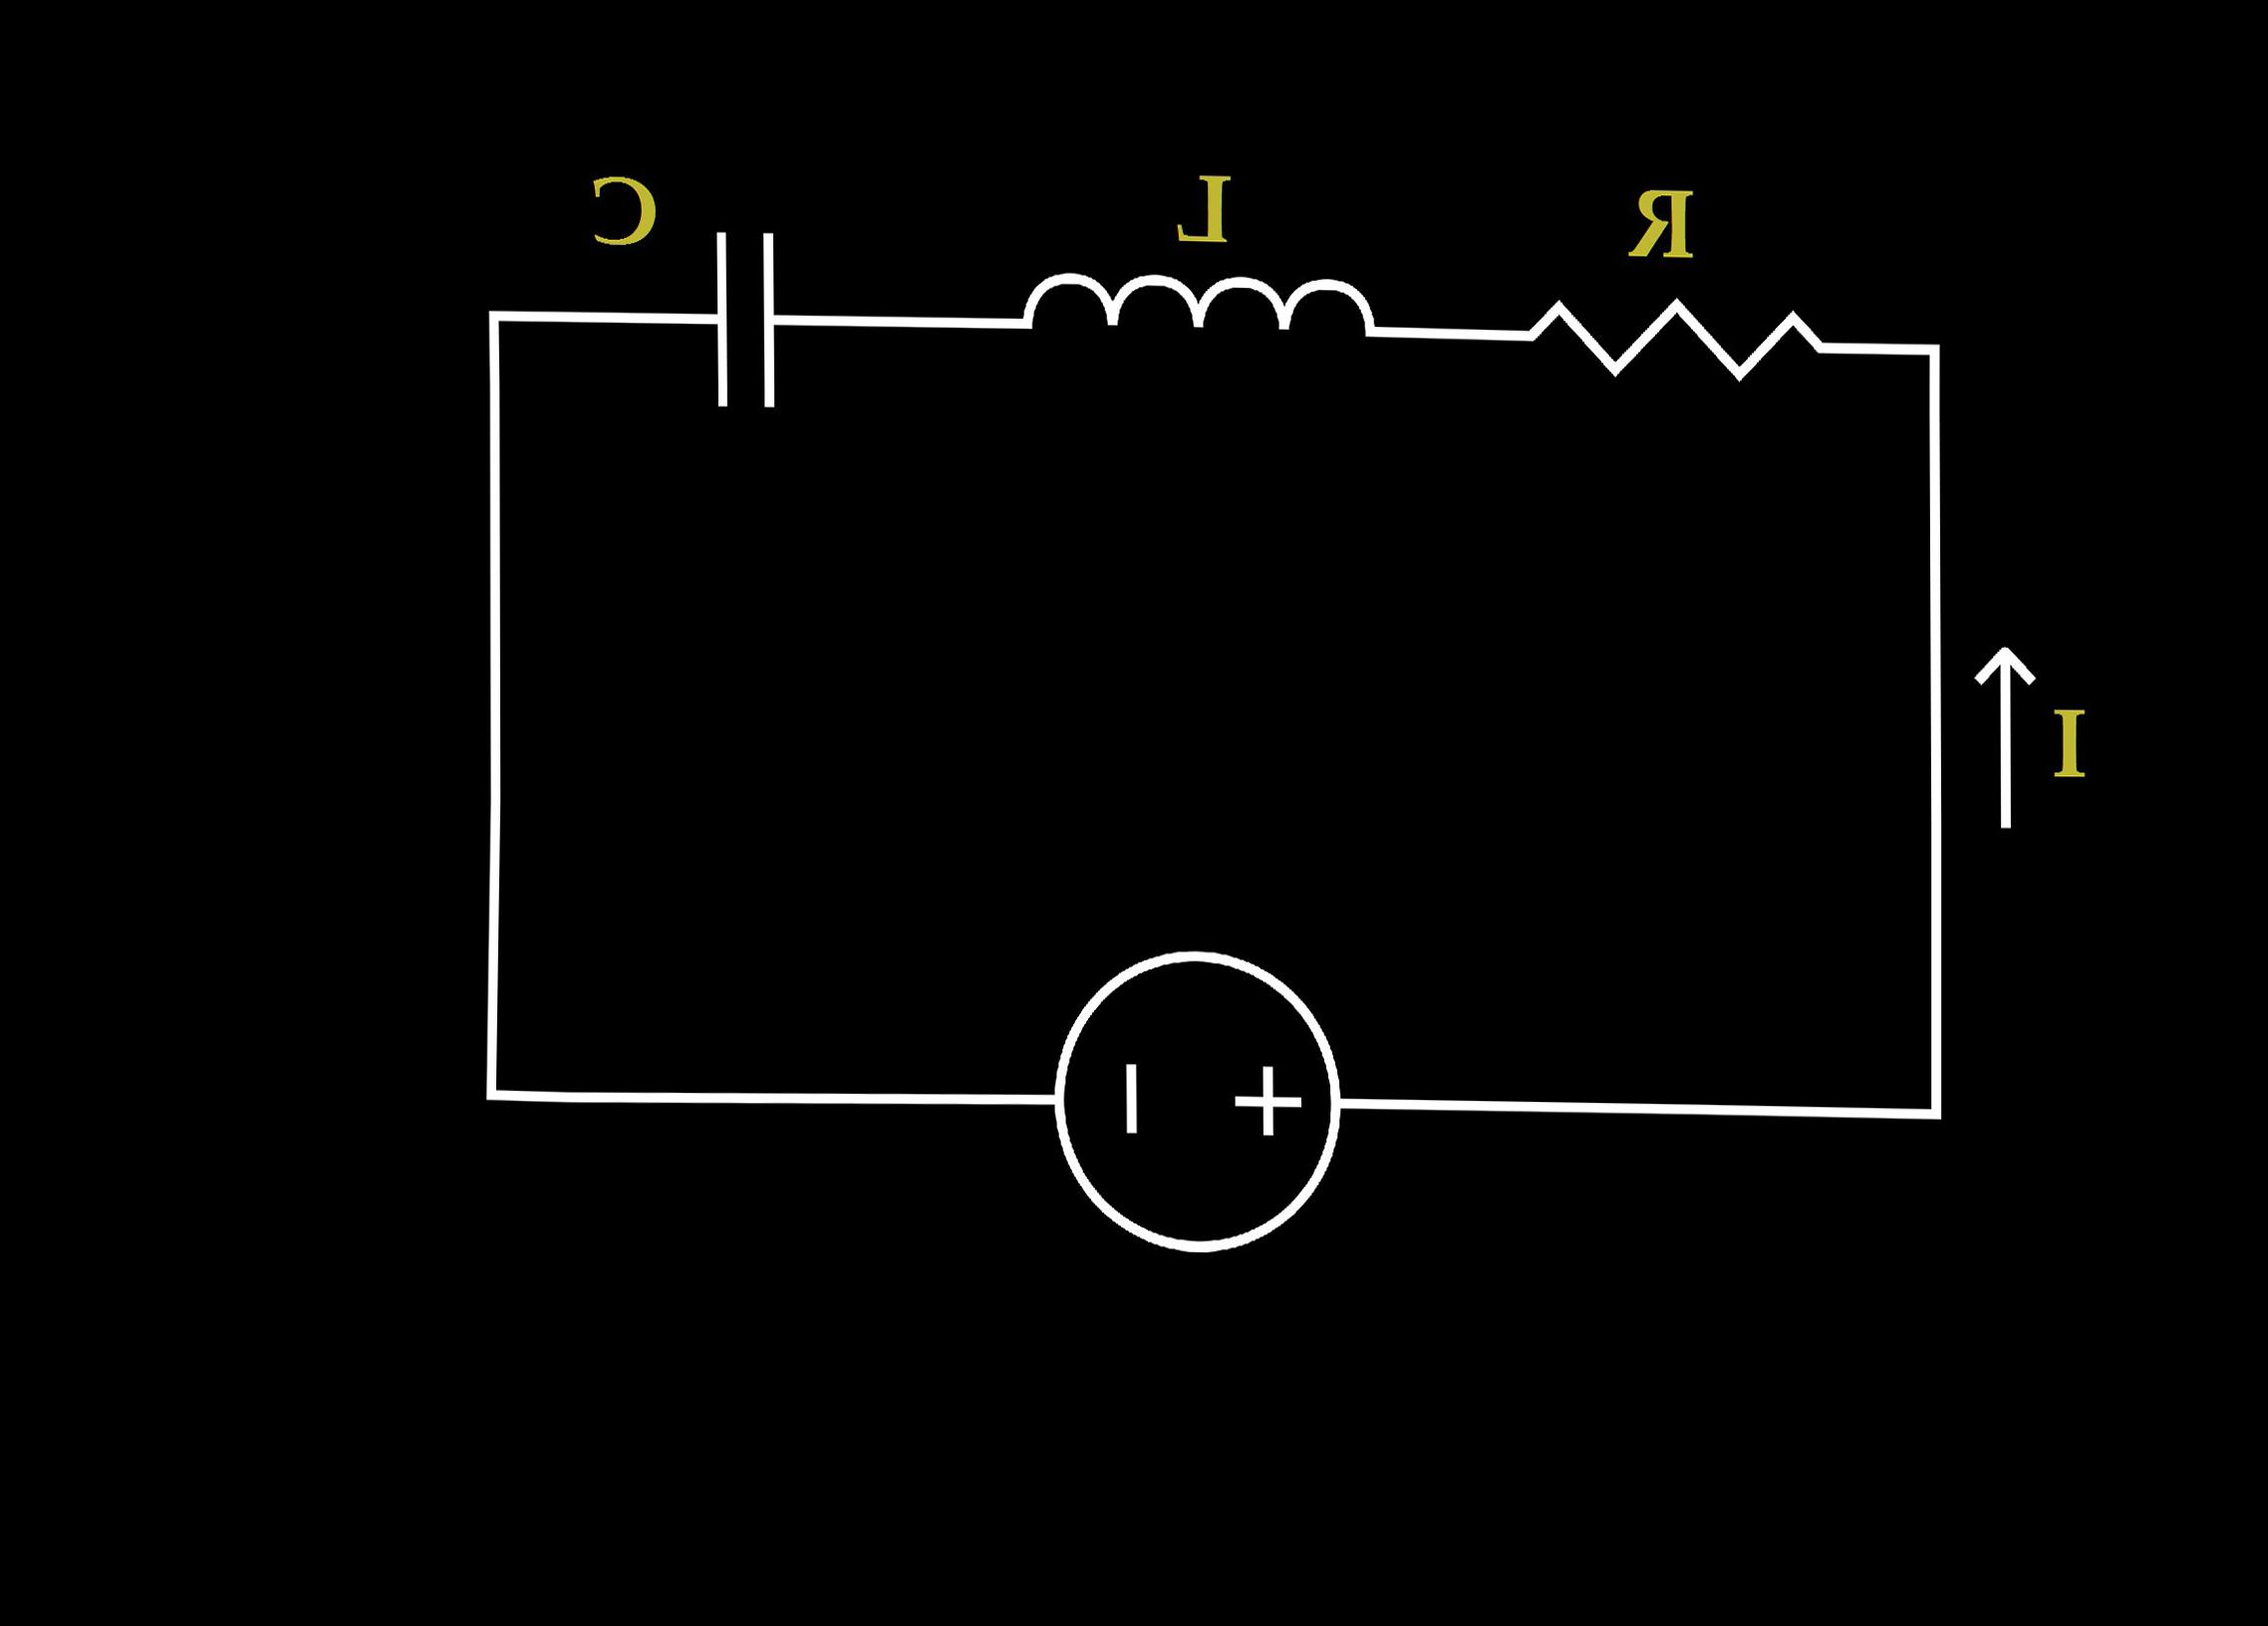Battery: (978, 920, 1394, 1290)
